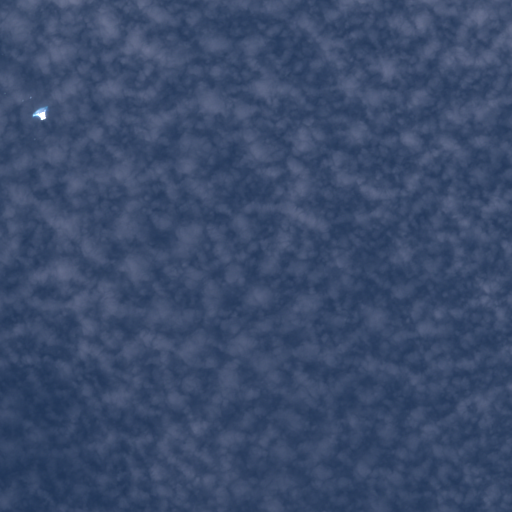Iceberg: (33, 106, 47, 119), (30, 97, 31, 98), (22, 100, 23, 101), (34, 138, 35, 139)
